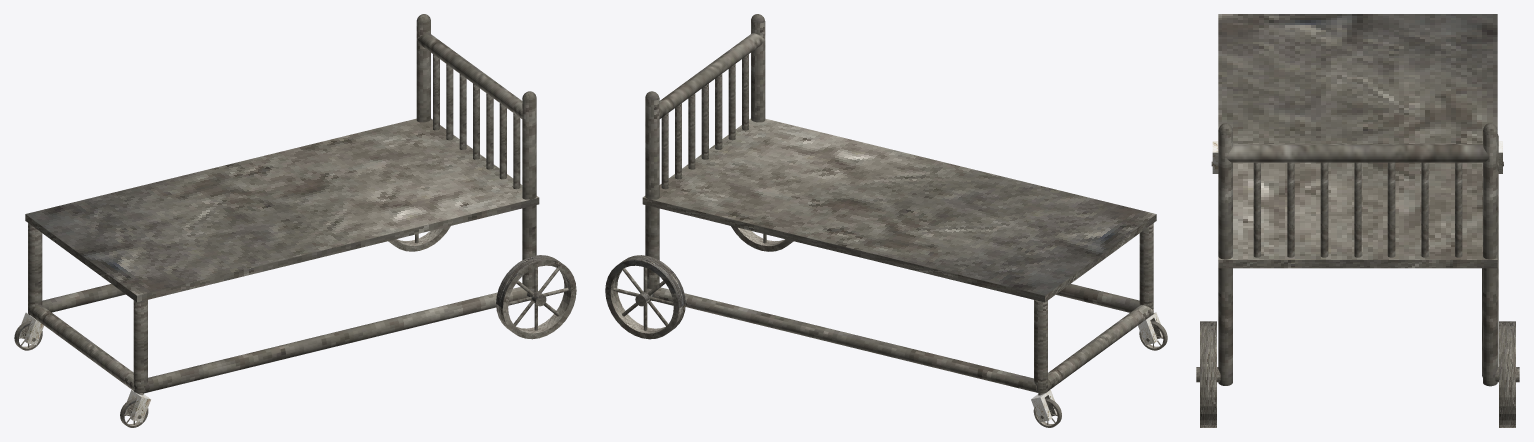
The model's file is lab_bed.glb.
The picture shows the model from 3 angles, left to right: view 1: azimuth 30°, elevation 25°; view 2: azimuth 150°, elevation 25°; view 3: azimuth 270°, elevation 25°; orthographic projection. The views are drawn at different scales.
Visible parts, largest first — view 1: Cube, Cylinder.023, Cylinder.006, Cylinder.022, Cylinder.024, Cylinder.025, Cylinder.003, Cylinder.001, Cylinder.002, Cylinder.018, Cylinder.012, Cylinder.011 (+6 smaller); view 2: Cube, Cylinder.018, Cylinder.014, Cylinder.001, Cylinder.024, Cylinder.025, Cylinder.022, Cylinder.002, Cylinder.003, Cylinder.023, Cylinder.011, Cylinder.012 (+6 smaller); view 3: Cube, Cylinder.025, Cylinder.001, Cylinder.022, Cylinder.014, Cylinder.006, Cylinder.007, Cylinder.008, Cylinder.013, Cylinder.005, Cylinder.009, Cylinder.004 (+2 smaller).
Part boxes in pixels (x1,y1,x2,y2): Cube: (25,118,539,302); Cylinder.023: (143,287,527,393); Cylinder.006: (496,255,576,339); Cylinder.022: (522,97,536,300); Cylinder.024: (29,305,139,393); Cylinder.025: (417,33,523,118); Cylinder.003: (133,300,147,392); Cylinder.001: (416,20,430,122); Cylinder.002: (28,223,42,315); Cylinder.018: (42,284,125,312); Cylinder.012: (120,390,150,427); Cylinder.011: (14,312,44,350); Cube: (642,118,1156,302); Cylinder.018: (654,287,1038,392); Cylinder.014: (605,255,685,339); Cylinder.001: (645,97,659,300); Cylinder.024: (1044,305,1153,393); Cylinder.025: (659,33,764,118); Cylinder.022: (751,20,765,122); Cylinder.002: (1034,300,1047,393); Cylinder.003: (1139,223,1153,315); Cylinder.023: (1056,284,1139,312); Cylinder.011: (1031,390,1061,427); Cylinder.012: (1138,312,1167,350); Cube: (1218,14,1497,268); Cylinder.025: (1224,144,1489,162); Cylinder.001: (1483,132,1497,386); Cylinder.022: (1218,132,1232,385); Cylinder.014: (1495,321,1519,427); Cylinder.006: (1196,321,1220,427); Cylinder.007: (1320,162,1328,257); Cylinder.008: (1387,162,1395,257); Cylinder.013: (1354,162,1361,257); Cylinder.005: (1287,162,1294,257); Cylinder.009: (1421,162,1428,257); Cylinder.004: (1253,162,1260,257).
Bounding box in the file's own units: 2.76 × 1.42 × 1.39.
48 materials, 48 textured.
